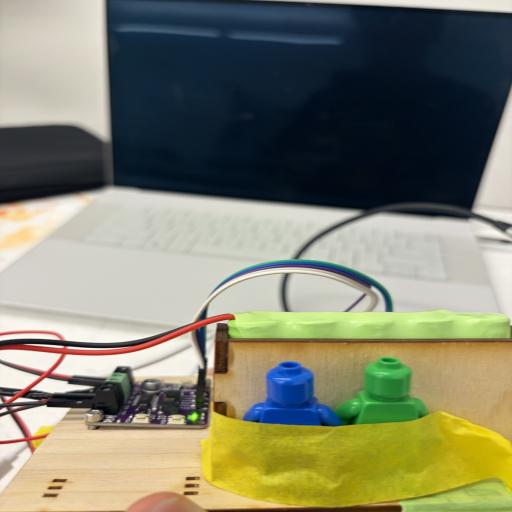Blue-Lego: (243, 361, 339, 426)
Green-Lego: (335, 357, 429, 424)
